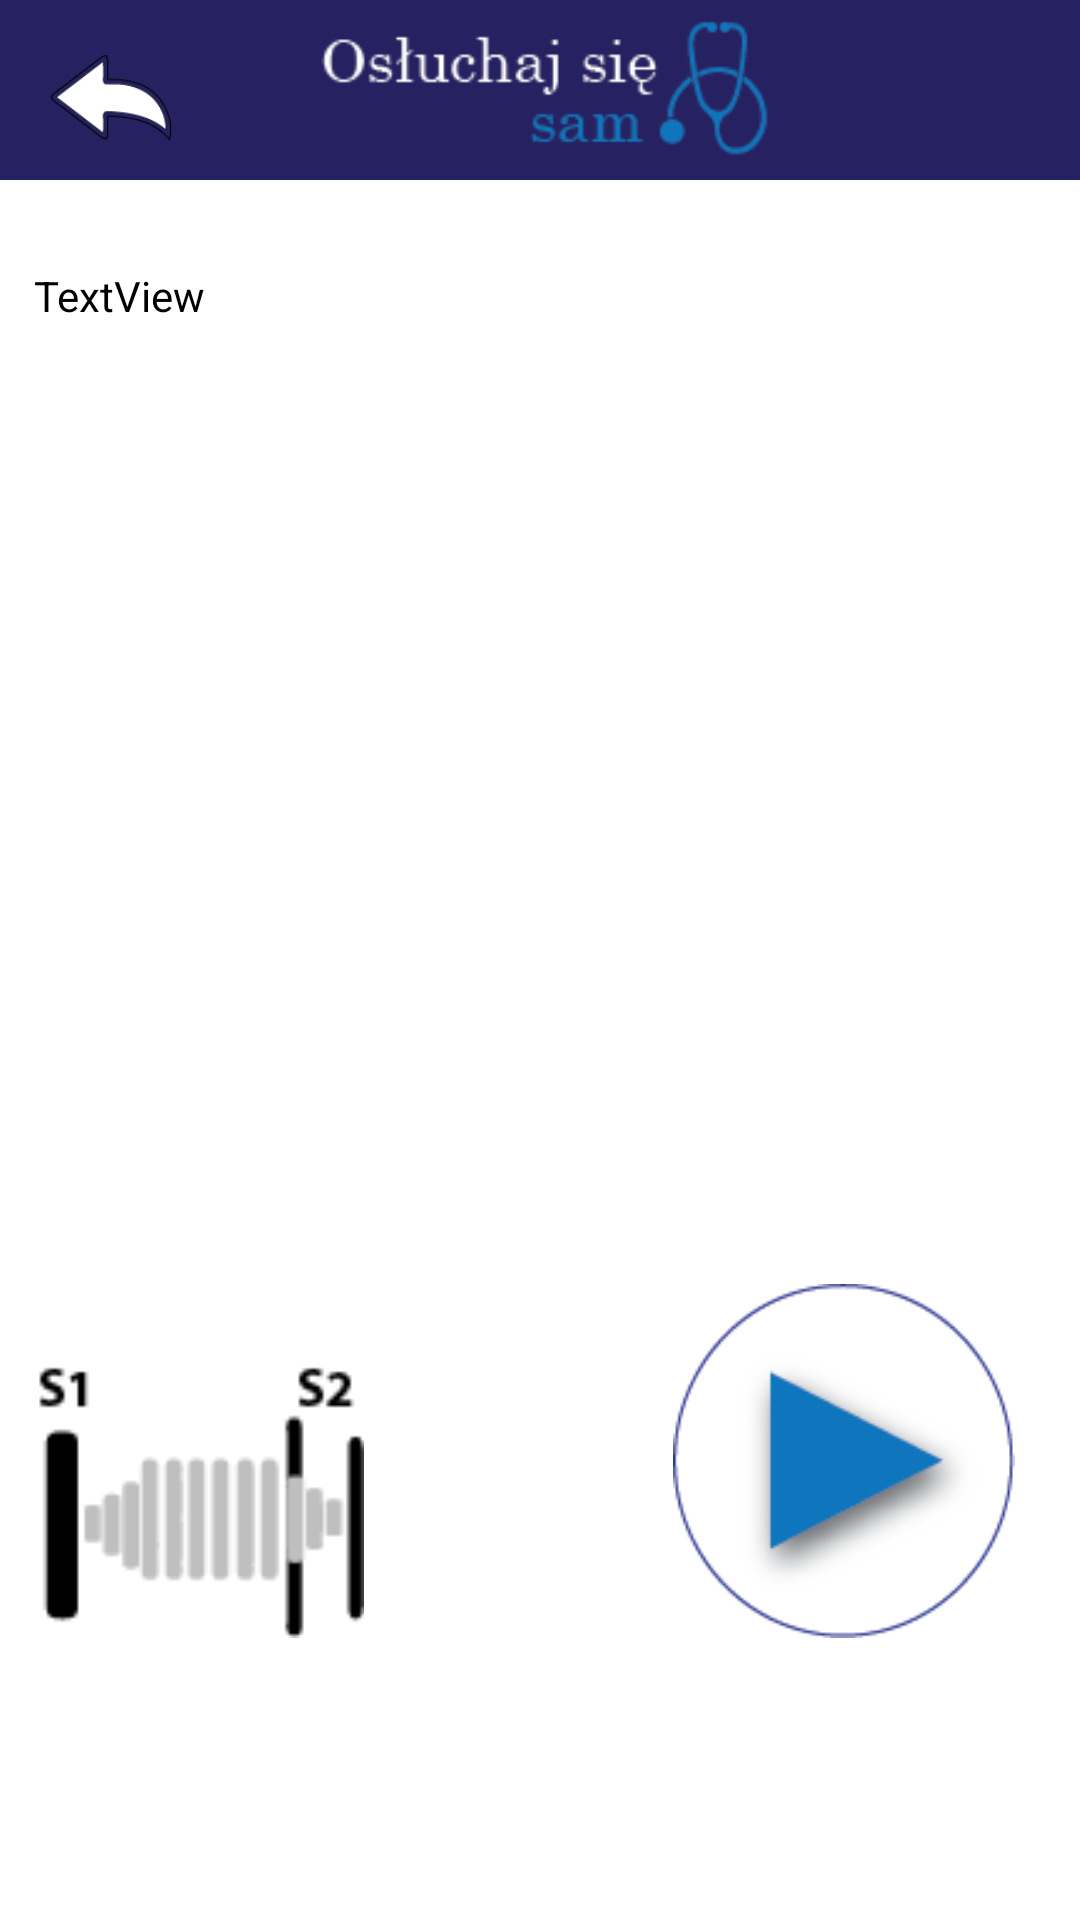

Screen size 1080px x 1920px. Icon name, then its center in pixels as point (x, y):
back: point (111, 98)
